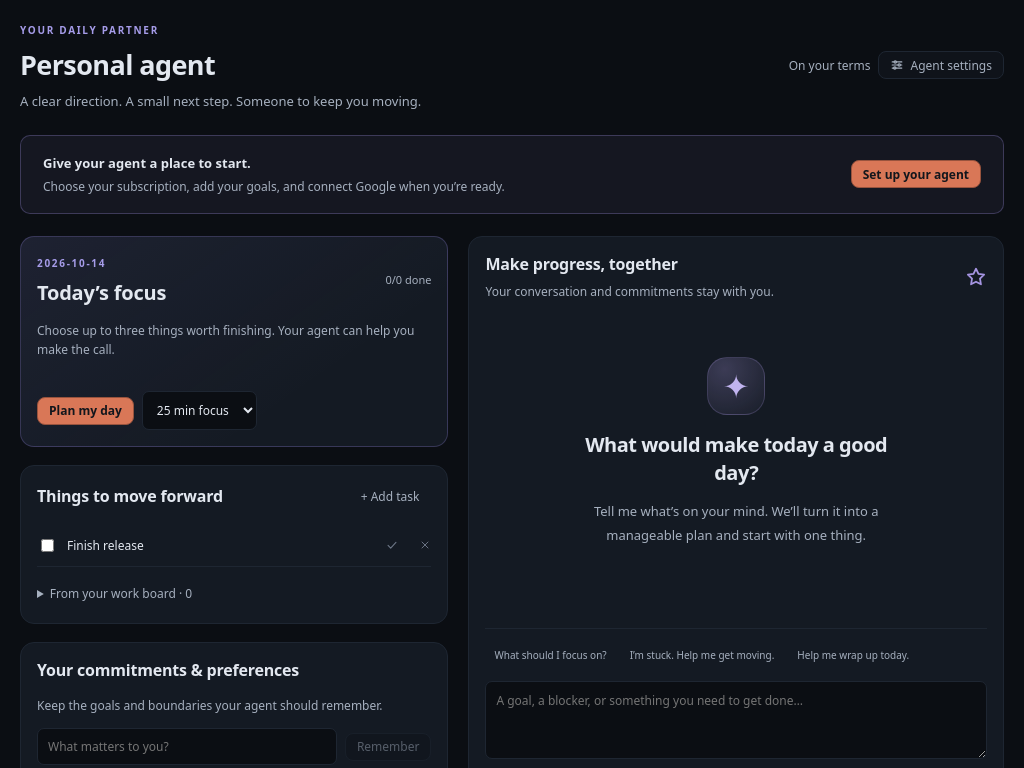
Test case: keeps task drafts and disables saves after a concurrent agent edit
This screenshot has width=1024, height=768.
Click the button "Finish release": {"x": 105, "y": 545} [67,537,369,554]
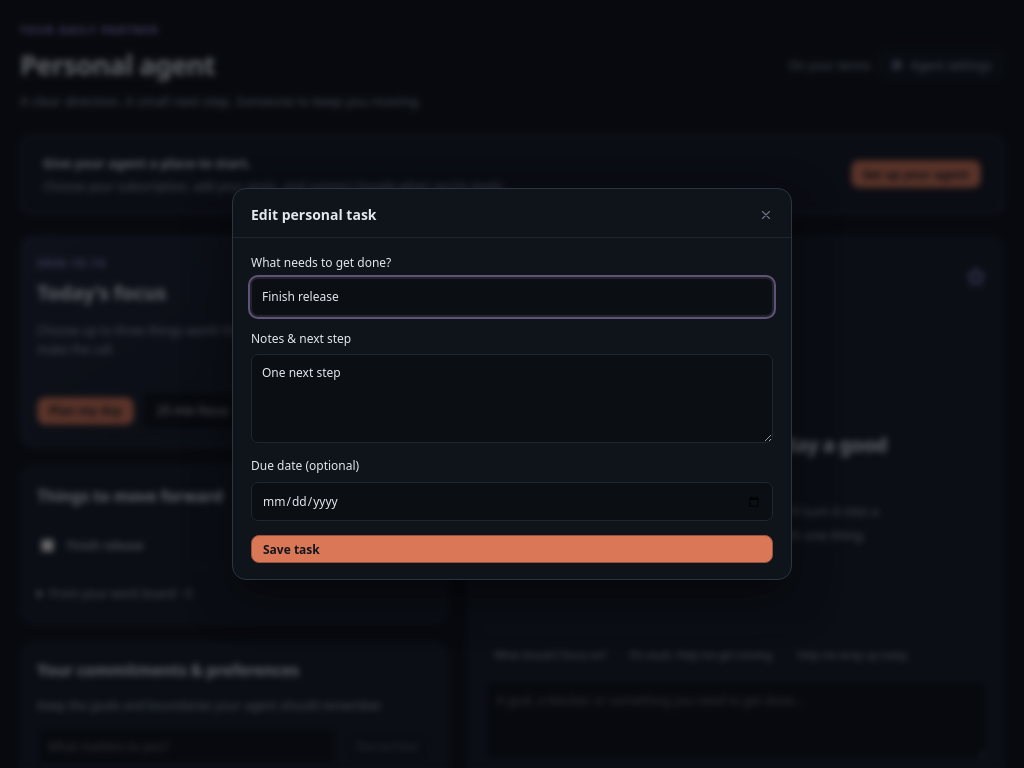
Replace the text in the field labelled "What needs to get done?" with "My draft": {"x": 512, "y": 297} [251,278,773,316]
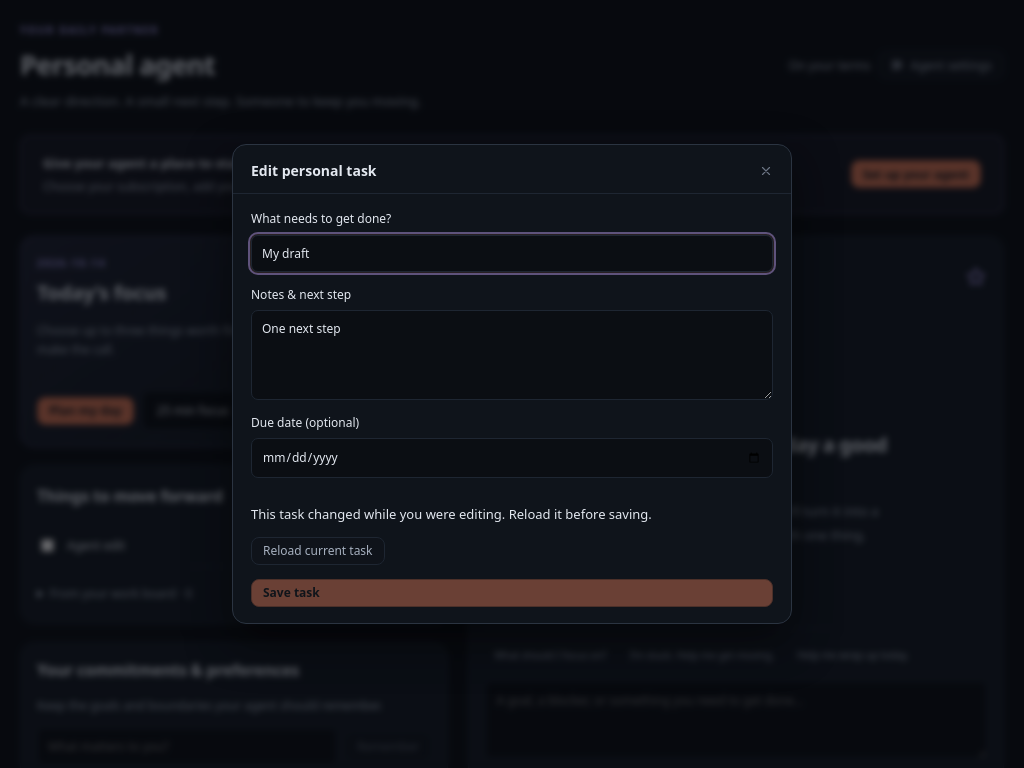
Now the button "Save task" is disabled, box [251,579,773,607]
Click the button "Reload current task": {"x": 318, "y": 551} [251,537,384,565]
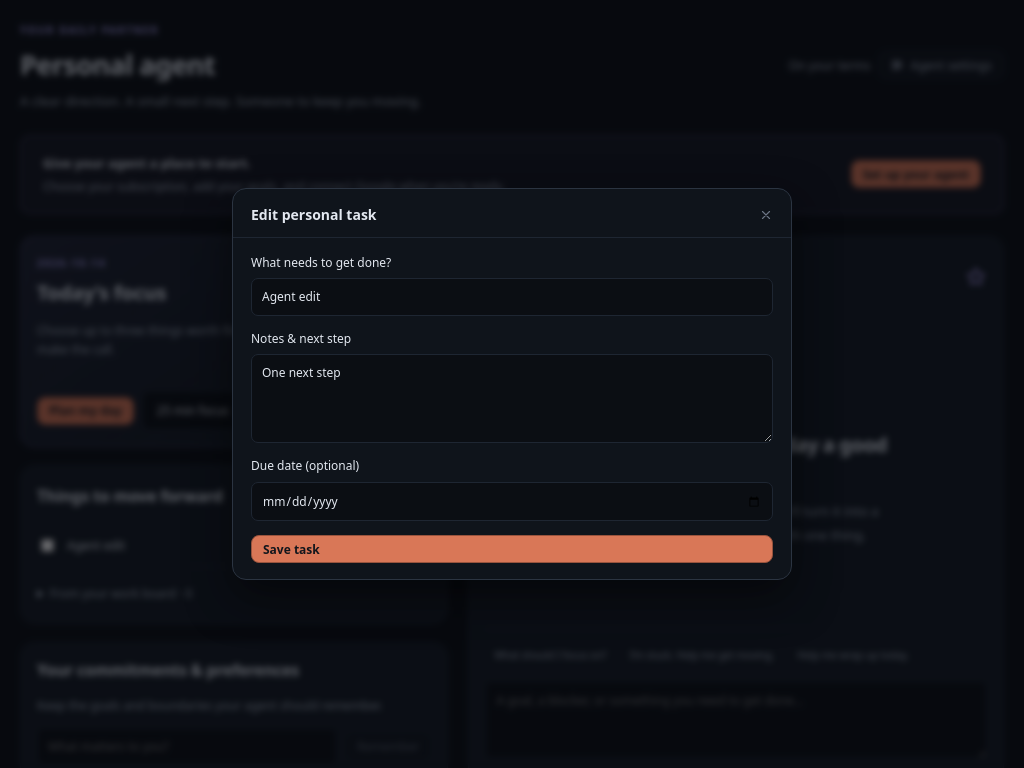
Now the field labelled "What needs to get done?" holds "Agent edit", box [251,278,773,316]
